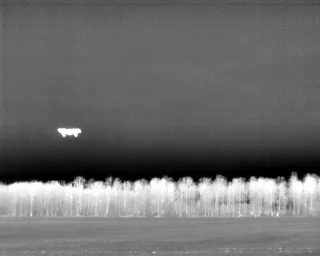DRONE: (53, 122, 85, 143)
